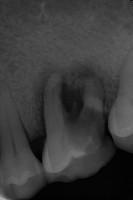Dental Caries: (29, 61, 121, 143)
